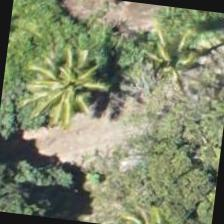Kelapa_Sawit: (20, 48, 120, 148)
